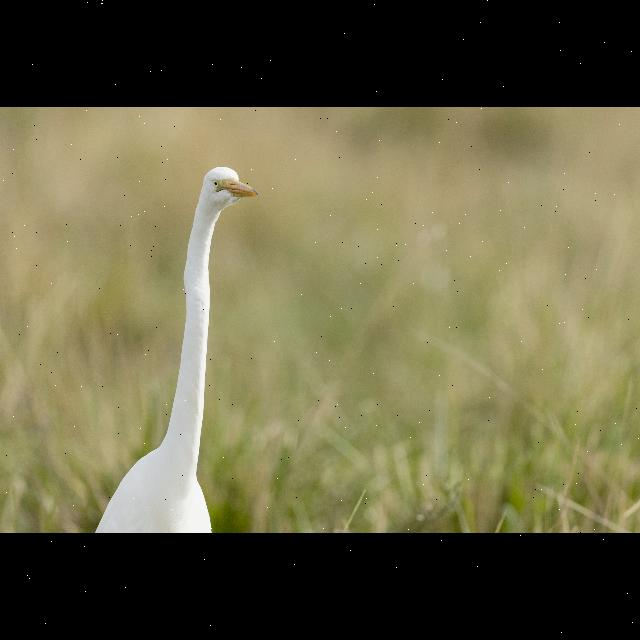egret: (90, 160, 262, 534)
